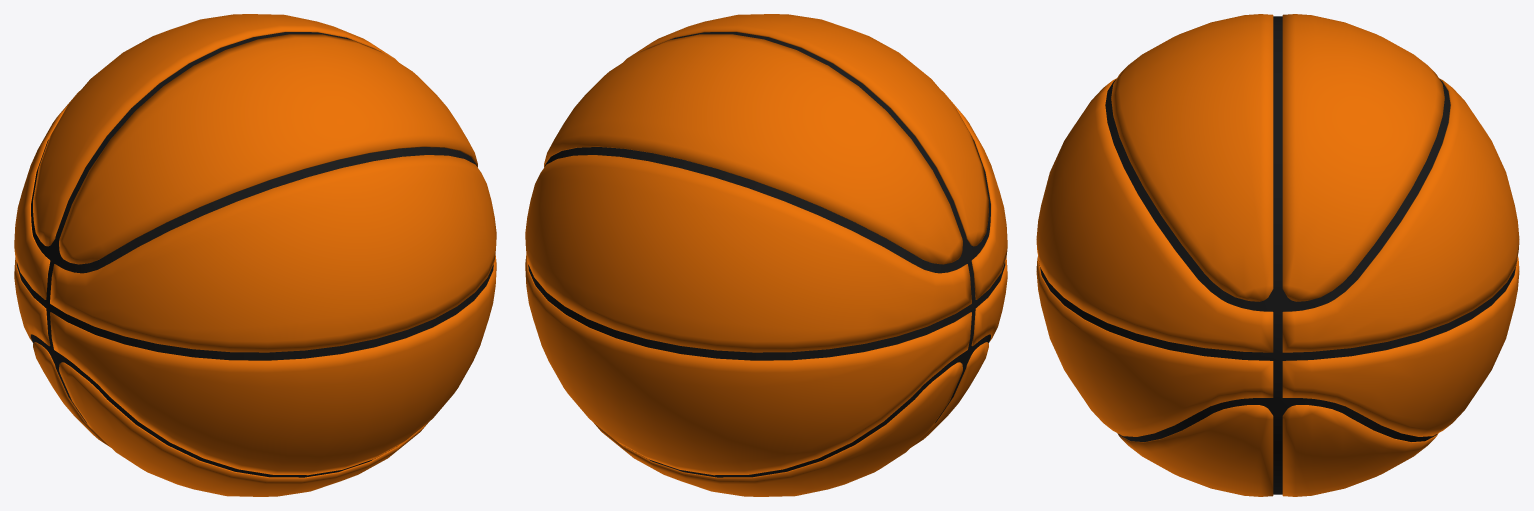
Rendered from Ball.fbx.
3 views of the same model, side by side, from view 1: azimuth 30°, elevation 25°; view 2: azimuth 150°, elevation 25°; view 3: azimuth 270°, elevation 25° (orthographic).
Visible parts, largest first — view 1: Pallone, Linee; view 2: Pallone, Linee; view 3: Pallone, Linee.
Part boxes in pixels (x1,y1,x2,y2): Pallone: (14, 14, 496, 496); Linee: (16, 32, 493, 477); Pallone: (525, 14, 1007, 496); Linee: (528, 32, 1005, 477); Pallone: (1036, 14, 1519, 496); Linee: (1038, 16, 1517, 494).
Bounding box in the file's own units: 76.81 × 77.11 × 77.11.
